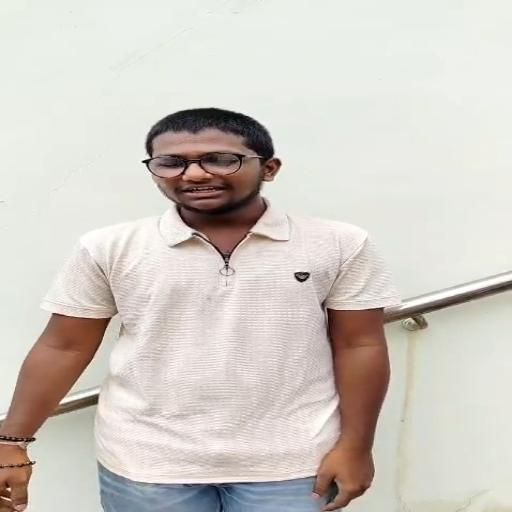employee-detectio-system: (30, 103, 407, 434)
